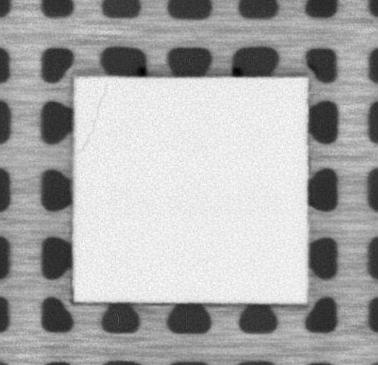DIE_CRACK: (77, 79, 107, 153)
